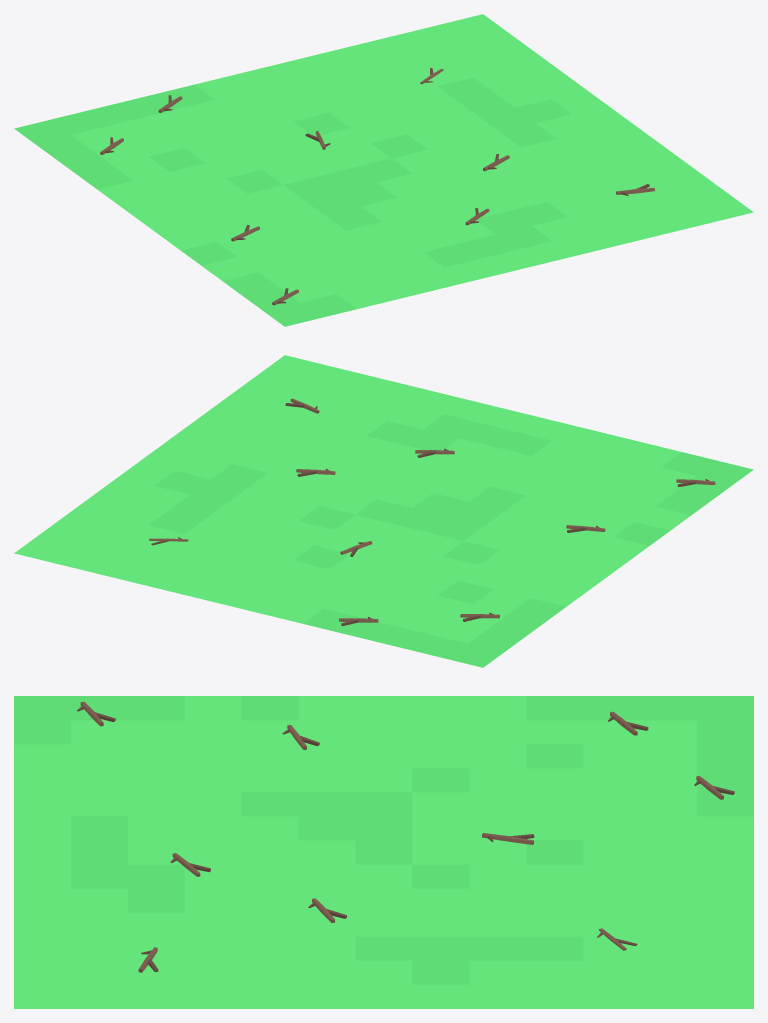
The model's file is map.glb.
3 views of the same model, one above another, from view 1: azimuth 30°, elevation 25°; view 2: azimuth 150°, elevation 25°; view 3: azimuth 270°, elevation 25° (orthographic). The views are drawn at different scales.
Visible parts, largest first — view 1: grass; view 2: grass; view 3: grass.
Boxes of the visible parts, bbox=[...] form: grass: bbox=[14, 14, 753, 326]; grass: bbox=[14, 355, 753, 667]; grass: bbox=[14, 696, 753, 1008].
Size of the model in its own units: 12.19 by 0.1895 by 12.19.
